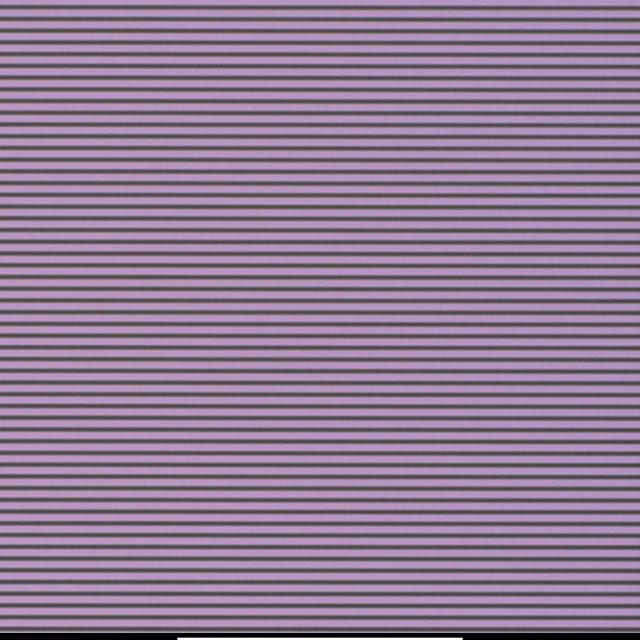nonvisual: (314, 288, 324, 298)
